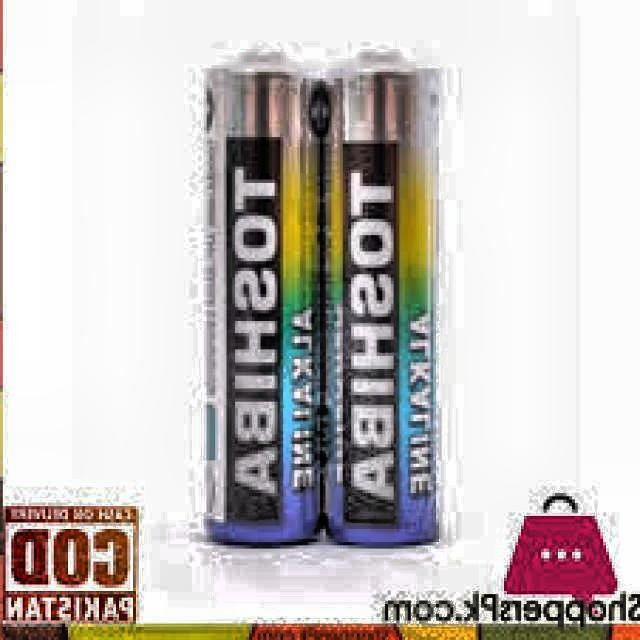battery: (325, 50, 441, 547), (210, 56, 329, 539)
